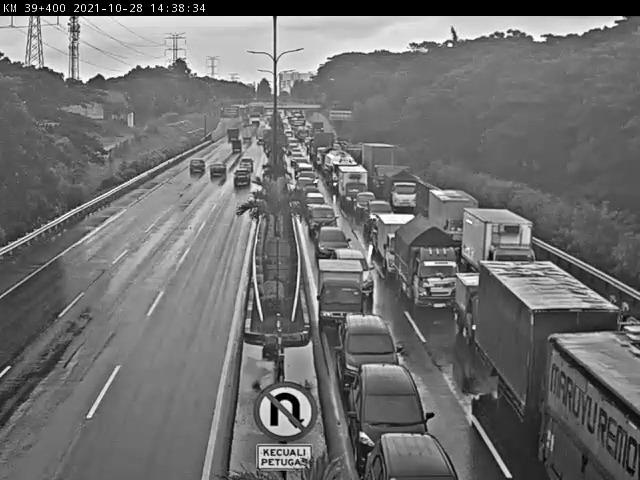big truck: (482, 265, 615, 402), (543, 330, 635, 475)
car: (355, 363, 432, 431), (335, 320, 410, 377), (373, 430, 458, 480), (337, 248, 371, 295), (315, 226, 349, 256), (309, 208, 346, 235), (355, 190, 384, 218), (370, 199, 392, 231), (186, 156, 208, 177), (232, 169, 253, 189), (210, 159, 227, 181), (305, 193, 327, 210), (236, 154, 252, 174)
small truck: (465, 209, 535, 281), (399, 215, 456, 298), (319, 256, 377, 319), (455, 273, 498, 338), (374, 215, 422, 272), (428, 189, 476, 239), (384, 169, 420, 207), (337, 166, 370, 206)
